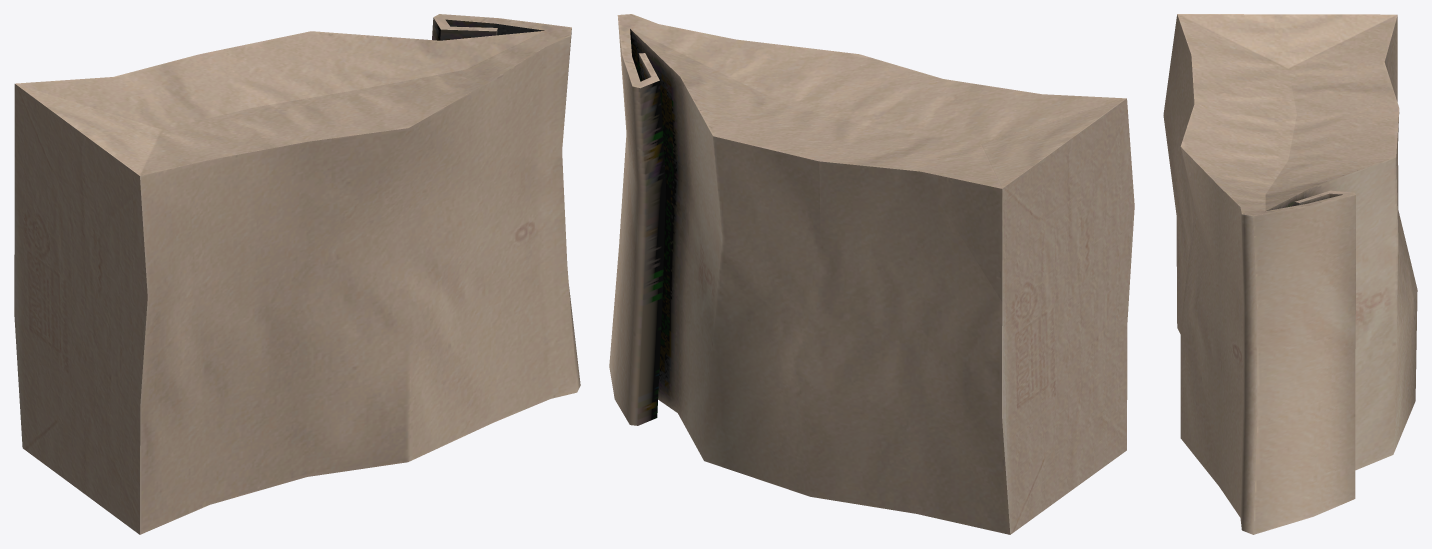
Rendered from props_2fort_lunchbag.glb.
The picture shows the model from 3 angles, left to right: view 1: azimuth 30°, elevation 25°; view 2: azimuth 150°, elevation 25°; view 3: azimuth 270°, elevation 25°; orthographic projection. The views are drawn at different scales.
Visible parts, largest first — view 1: models/props_2fort/lunchbag; view 2: models/props_2fort/lunchbag; view 3: models/props_2fort/lunchbag.
Boxes of the visible parts, bbox=[...] form: models/props_2fort/lunchbag: bbox=[14, 14, 580, 534]; models/props_2fort/lunchbag: bbox=[609, 14, 1134, 534]; models/props_2fort/lunchbag: bbox=[1163, 14, 1417, 534].
Size of the model in its own units: 18.7 by 13.3 by 9.72.
1 material, 1 textured.
